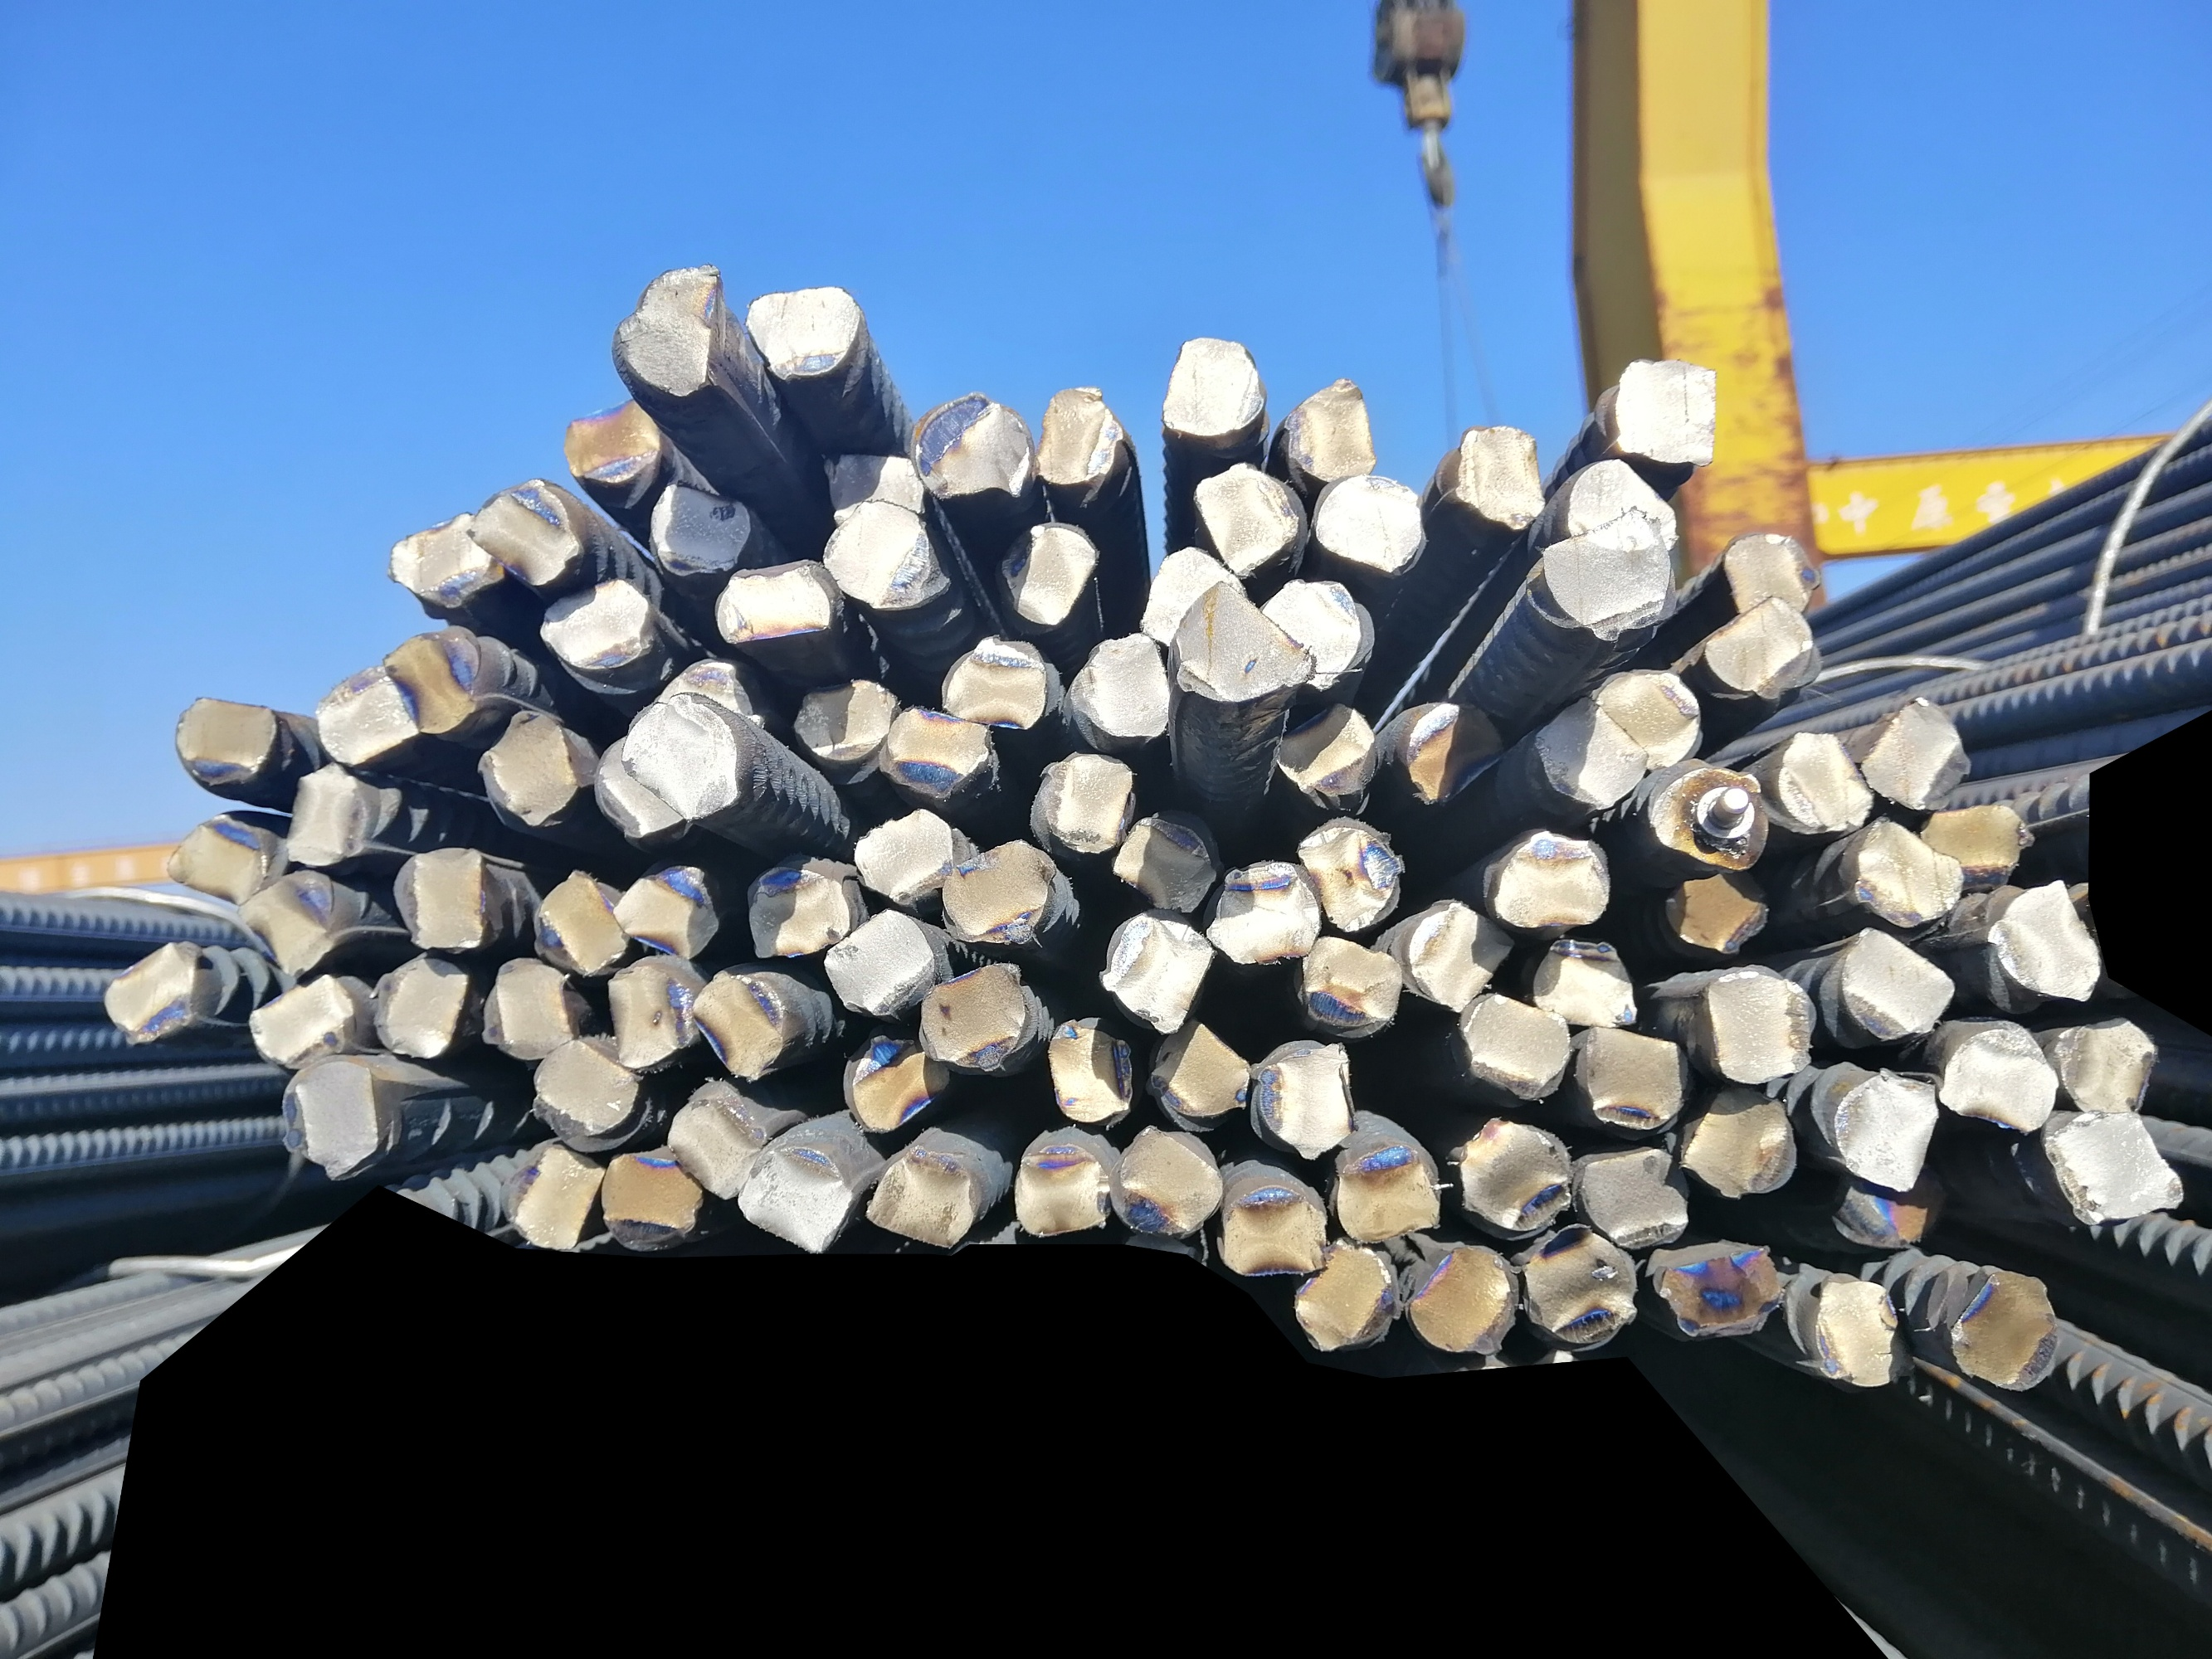rebar: (1980, 873, 2109, 1011), (1175, 580, 1313, 708), (2050, 1103, 2184, 1230), (1541, 516, 1677, 641), (617, 270, 736, 411), (621, 692, 748, 821), (1947, 1262, 2067, 1392), (1679, 1077, 1802, 1201), (1100, 1122, 1227, 1243), (1694, 967, 1822, 1087), (1520, 1220, 1640, 1345), (819, 498, 952, 610), (1827, 1068, 1944, 1194), (1412, 1234, 1523, 1364), (1835, 925, 1956, 1046), (1940, 1021, 2060, 1140), (268, 1058, 383, 1182), (1536, 688, 1654, 807), (528, 1021, 643, 1143), (1098, 910, 1210, 1035), (908, 392, 1037, 500), (1457, 1112, 1574, 1230), (1579, 1016, 1696, 1134), (941, 833, 1060, 948), (739, 1136, 851, 1258), (1844, 817, 1966, 929), (1293, 812, 1403, 936), (1313, 469, 1431, 582), (1809, 1270, 1921, 1391), (1194, 455, 1302, 579), (472, 699, 575, 828), (1654, 1237, 1783, 1340), (1768, 720, 1883, 835), (471, 474, 587, 587), (1253, 1042, 1361, 1164), (593, 1140, 708, 1253), (1110, 807, 1222, 924), (1863, 697, 1975, 814), (1143, 1016, 1252, 1136), (1262, 573, 1368, 695), (166, 685, 282, 795), (1269, 697, 1377, 816), (1210, 856, 1323, 967), (1712, 589, 1825, 701), (744, 279, 861, 387), (1069, 622, 1173, 742), (521, 861, 633, 972), (1138, 540, 1250, 652), (2050, 1007, 2160, 1121), (103, 938, 220, 1044), (237, 870, 354, 976), (647, 471, 757, 582), (919, 964, 1030, 1073), (368, 950, 476, 1063), (1593, 662, 1706, 770), (743, 861, 859, 965), (1450, 418, 1555, 535), (282, 763, 403, 864), (385, 509, 507, 608), (824, 906, 934, 1016), (838, 1028, 950, 1136), (1652, 762, 1766, 868), (1407, 901, 1511, 1016), (1490, 831, 1611, 931), (382, 627, 488, 739), (1400, 697, 1504, 810), (307, 664, 422, 767), (1572, 1145, 1687, 1248), (689, 960, 783, 1086), (167, 803, 284, 904), (1614, 359, 1722, 467), (868, 1140, 980, 1244), (995, 516, 1100, 627), (1164, 326, 1267, 439), (880, 702, 995, 803), (1217, 1173, 1325, 1279), (1333, 1140, 1443, 1244), (1283, 369, 1384, 483), (1030, 751, 1138, 856), (535, 582, 661, 671), (1295, 1243, 1400, 1349), (938, 633, 1051, 730), (390, 847, 492, 955), (246, 971, 357, 1068), (1530, 932, 1642, 1030), (1462, 990, 1567, 1093), (671, 1086, 763, 1201), (481, 955, 579, 1063), (608, 861, 716, 958), (591, 732, 687, 842), (1659, 864, 1774, 955), (718, 558, 835, 647), (1569, 458, 1686, 547), (605, 960, 699, 1070), (1715, 525, 1827, 617), (1295, 932, 1400, 1028), (1032, 382, 1123, 491), (1046, 1016, 1137, 1126), (821, 444, 934, 532), (650, 655, 763, 742), (1011, 1138, 1110, 1237), (507, 1145, 600, 1251), (852, 807, 950, 903), (560, 396, 662, 486), (795, 673, 899, 762), (1832, 1171, 1945, 1251), (1923, 796, 2029, 880)
